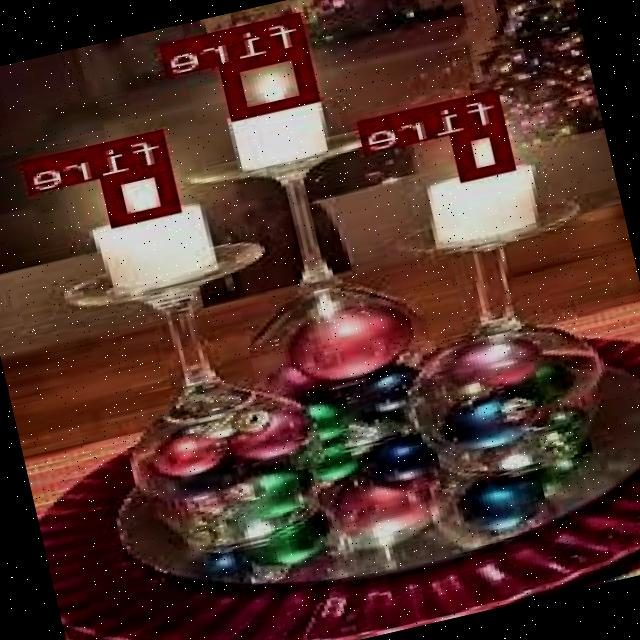fire: (225, 44, 320, 118), (103, 160, 182, 223), (455, 120, 519, 179)
